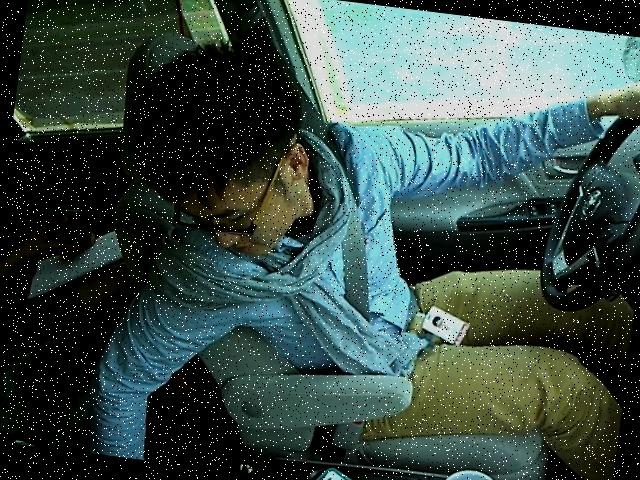c5 - Reaching Behind: (87, 10, 639, 477)
